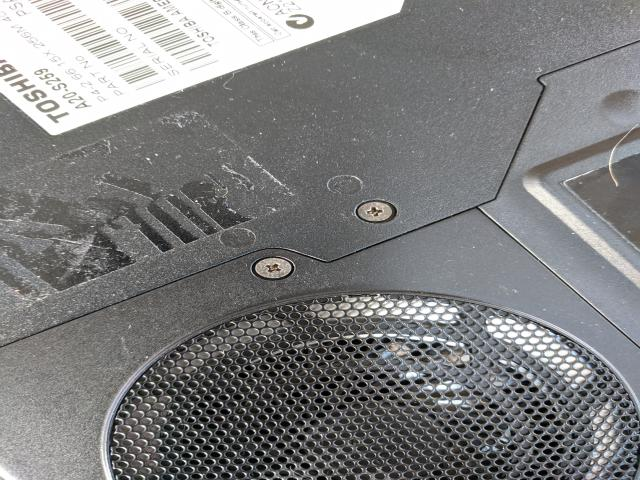CRS: (250, 254, 298, 280), (356, 200, 396, 224)
